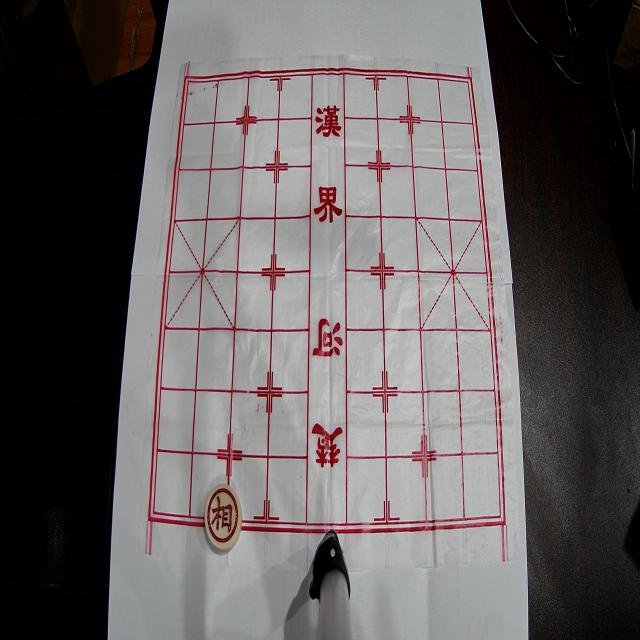red-elephant: (205, 483, 242, 551)
